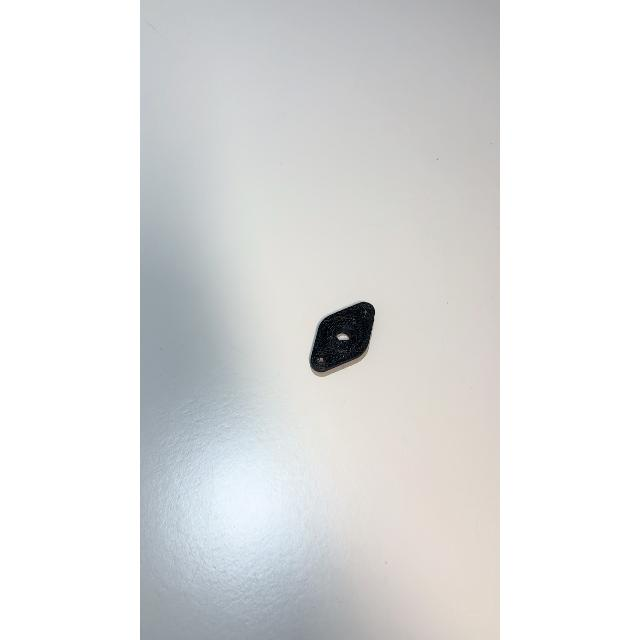Pieza_2: (294, 294, 382, 382)
